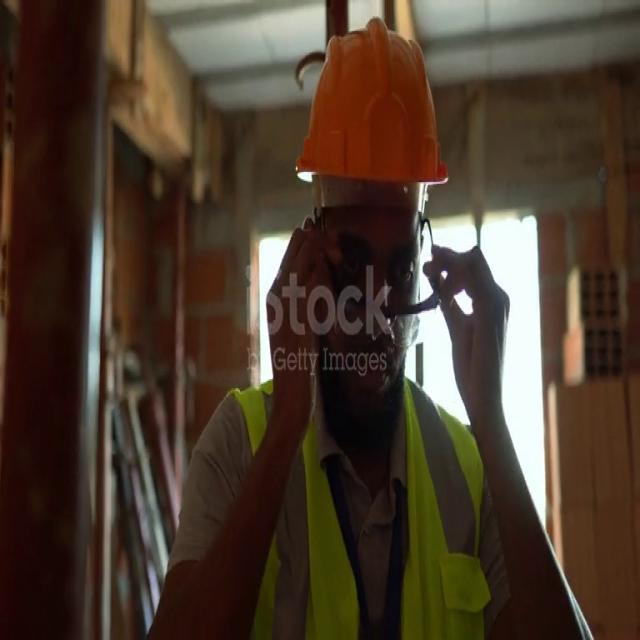capacete: (275, 12, 474, 248)
